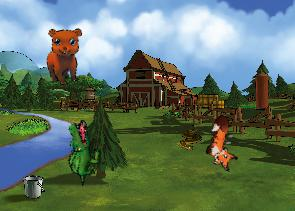bear: (40, 23, 92, 88)
crocodile: (52, 117, 111, 186)
fox: (199, 113, 249, 173)
